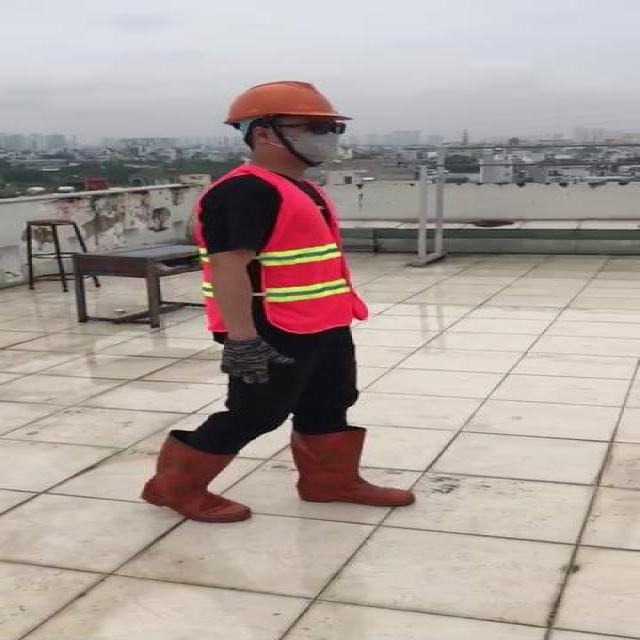boots: (137, 439, 254, 525), (292, 428, 414, 508)
face_mask: (286, 118, 348, 164)
glasses: (294, 117, 356, 138)
hand_glove: (220, 338, 298, 384)
head_helmet: (223, 76, 355, 125)
person: (128, 70, 420, 530)
vest: (197, 171, 368, 335)
